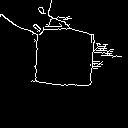cube: (28, 13, 107, 98)
